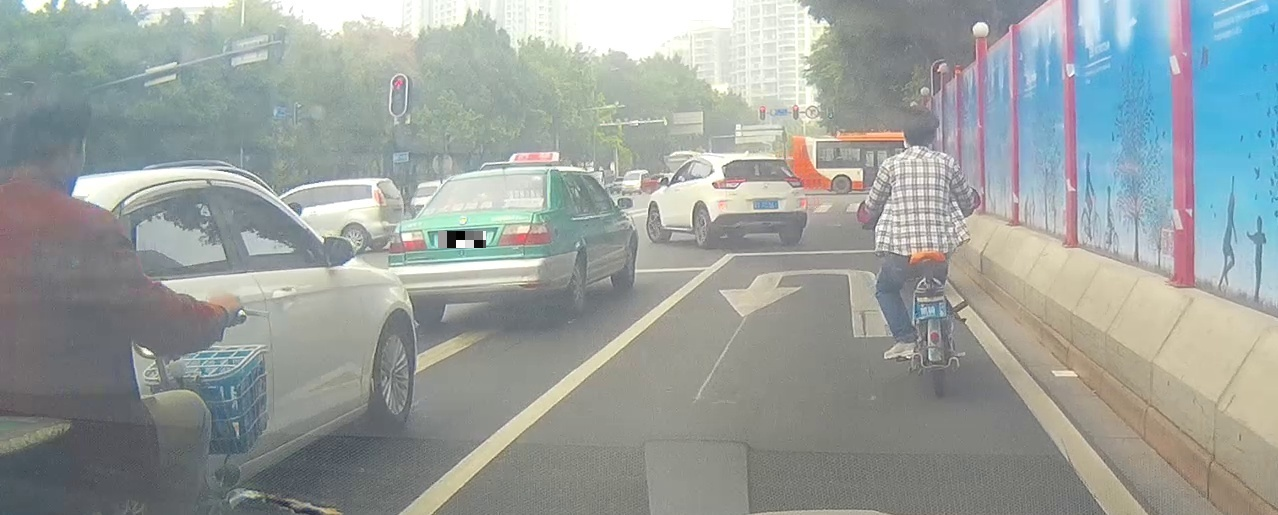L_light: (390, 230, 427, 254), (712, 176, 746, 189)
R_light: (497, 223, 552, 246), (783, 177, 803, 188)
T_light: (460, 203, 486, 211), (755, 159, 773, 163)
day-no: (389, 166, 554, 324), (711, 153, 807, 249)
plate_1: (438, 231, 486, 248)
